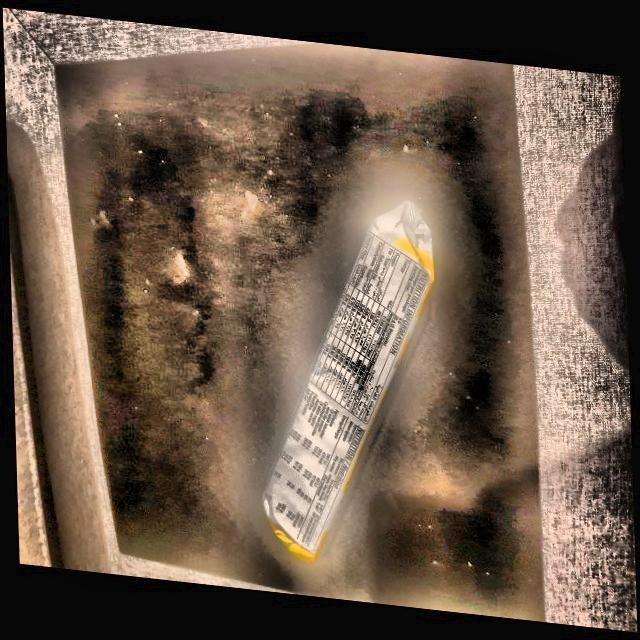lemon puff: (266, 202, 438, 554)
